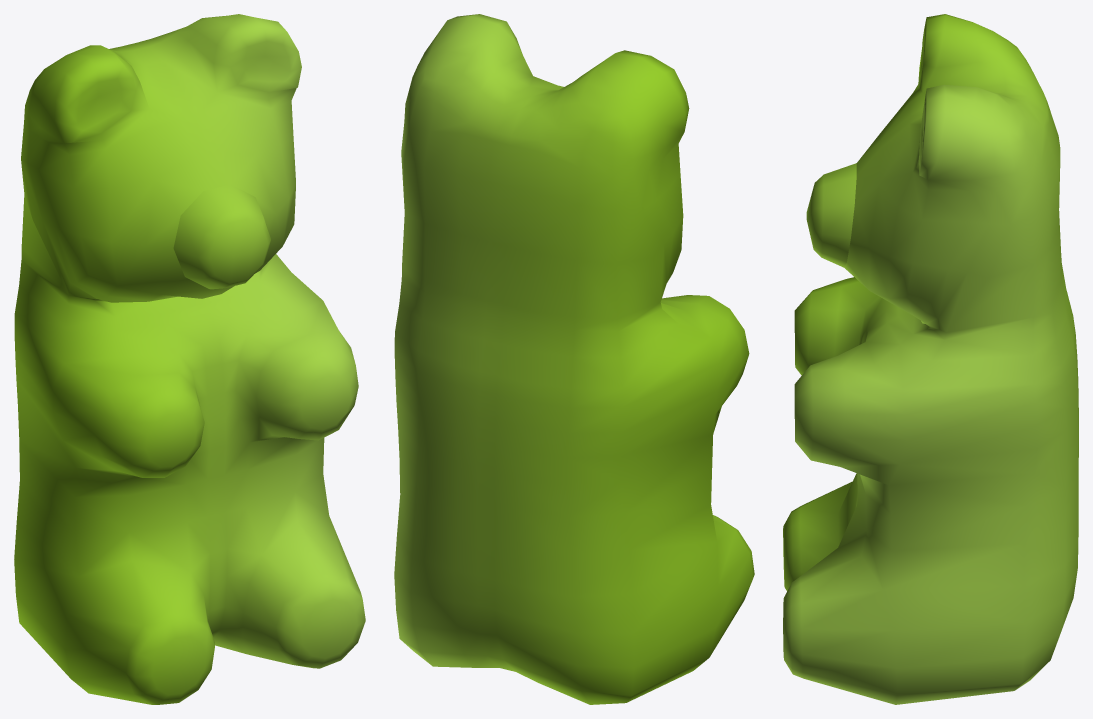
The model's file is Gummy_Bear_02.fbx.
The picture shows the model from 3 angles, left to right: view 1: azimuth 30°, elevation 25°; view 2: azimuth 150°, elevation 25°; view 3: azimuth 270°, elevation 25°; orthographic projection. The views are drawn at different scales.
Parts seen in each view (by area): view 1: Gummy_Bear_02; view 2: Gummy_Bear_02; view 3: Gummy_Bear_02.
Part boxes in pixels (x1,y1,x2,y2): Gummy_Bear_02: (14, 14, 365, 704); Gummy_Bear_02: (394, 14, 754, 704); Gummy_Bear_02: (783, 14, 1078, 704).
Size of the model in its own units: 97.58 by 207 by 92.19.
